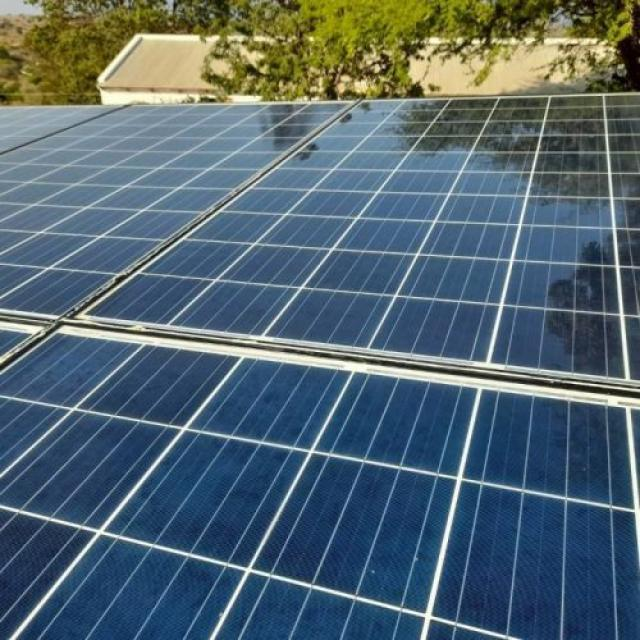clean: (2, 96, 640, 632)
